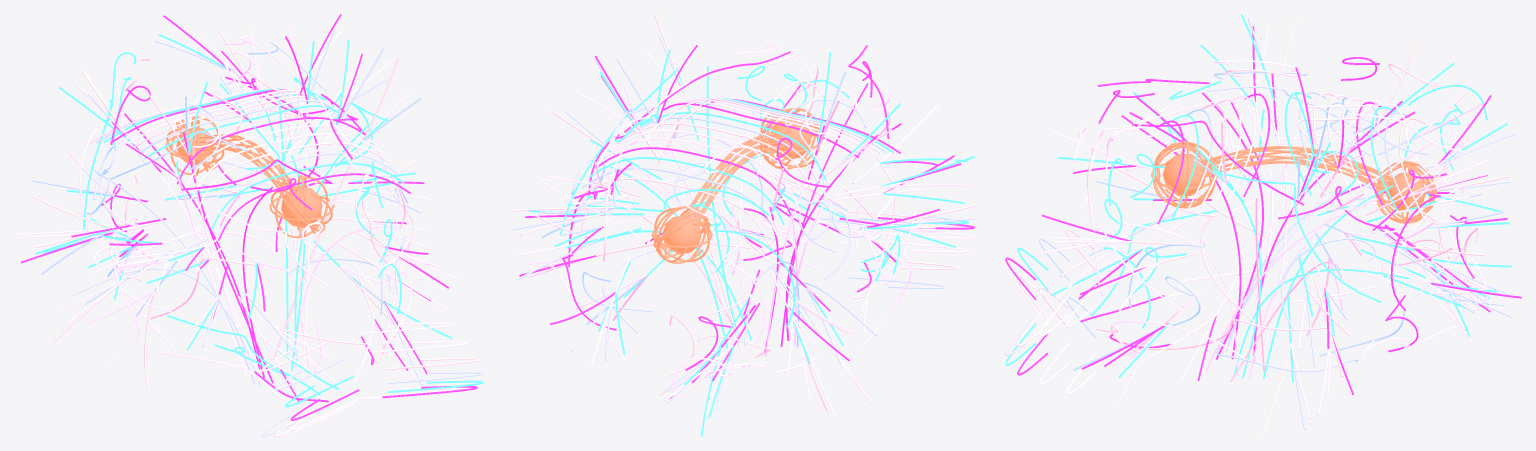
The picture shows the model from 3 angles, left to right: view 1: azimuth 30°, elevation 25°; view 2: azimuth 150°, elevation 25°; view 3: azimuth 270°, elevation 25°; orthographic projection. The views are drawn at different scales.
Visible parts, largest first — view 1: Cascade_Fractal_Cyan_Wave, Cascade_Fractal_RoseViolet_Wave, Cascade_Fractal_Ultraviolet_Wave, Cascade_Fractal_SolarGold_Wave, Cascade_Fractal_Magenta_Wave, Cascade_Fractal_EmeraldTeal_Wave, Cascade_DMN_Cingulate_Bridge, Cascade_DMN_Posterior_Cingulate_Hub, Cascade_DMN_Medial_Frontal_Hub; view 2: Cascade_Fractal_Cyan_Wave, Cascade_Fractal_Ultraviolet_Wave, Cascade_Fractal_SolarGold_Wave, Cascade_Fractal_RoseViolet_Wave, Cascade_Fractal_EmeraldTeal_Wave, Cascade_Fractal_Magenta_Wave, Cascade_DMN_Cingulate_Bridge, Cascade_DMN_Medial_Frontal_Hub, Cascade_DMN_Posterior_Cingulate_Hub; view 3: Cascade_Fractal_Magenta_Wave, Cascade_Fractal_Cyan_Wave, Cascade_Fractal_RoseViolet_Wave, Cascade_Fractal_SolarGold_Wave, Cascade_Fractal_Ultraviolet_Wave, Cascade_Fractal_EmeraldTeal_Wave, Cascade_DMN_Cingulate_Bridge, Cascade_DMN_Posterior_Cingulate_Hub, Cascade_DMN_Medial_Frontal_Hub.
Part boxes in pixels (x1,y1,x2,y2): Cascade_Fractal_Cyan_Wave: [35, 34, 483, 407]; Cascade_Fractal_RoseViolet_Wave: [14, 24, 466, 430]; Cascade_Fractal_Ultraviolet_Wave: [32, 29, 483, 436]; Cascade_Fractal_SolarGold_Wave: [32, 30, 477, 436]; Cascade_Fractal_Magenta_Wave: [20, 14, 477, 420]; Cascade_Fractal_EmeraldTeal_Wave: [51, 30, 467, 435]; Cascade_DMN_Cingulate_Bridge: [165, 116, 334, 238]; Cascade_DMN_Posterior_Cingulate_Hub: [281, 186, 322, 227]; Cascade_DMN_Medial_Frontal_Hub: [176, 127, 213, 164]; Cascade_Fractal_Cyan_Wave: [528, 49, 974, 436]; Cascade_Fractal_Ultraviolet_Wave: [512, 35, 976, 406]; Cascade_Fractal_SolarGold_Wave: [512, 14, 974, 411]; Cascade_Fractal_RoseViolet_Wave: [524, 45, 974, 407]; Cascade_Fractal_EmeraldTeal_Wave: [518, 47, 968, 416]; Cascade_Fractal_Magenta_Wave: [519, 45, 974, 399]; Cascade_DMN_Cingulate_Bridge: [651, 107, 822, 263]; Cascade_DMN_Medial_Frontal_Hub: [662, 215, 701, 254]; Cascade_DMN_Posterior_Cingulate_Hub: [770, 118, 811, 159]; Cascade_Fractal_Magenta_Wave: [1005, 26, 1521, 394]; Cascade_Fractal_Cyan_Wave: [1005, 14, 1511, 382]; Cascade_Fractal_RoseViolet_Wave: [1005, 28, 1488, 398]; Cascade_Fractal_SolarGold_Wave: [1017, 16, 1509, 436]; Cascade_Fractal_Ultraviolet_Wave: [1005, 18, 1516, 429]; Cascade_Fractal_EmeraldTeal_Wave: [1017, 60, 1511, 418]; Cascade_DMN_Cingulate_Bridge: [1151, 141, 1437, 223]; Cascade_DMN_Posterior_Cingulate_Hub: [1162, 154, 1205, 195]; Cascade_DMN_Medial_Frontal_Hub: [1385, 173, 1426, 210].
Size of the model in its own units: 6.04 by 5.04 by 7.
